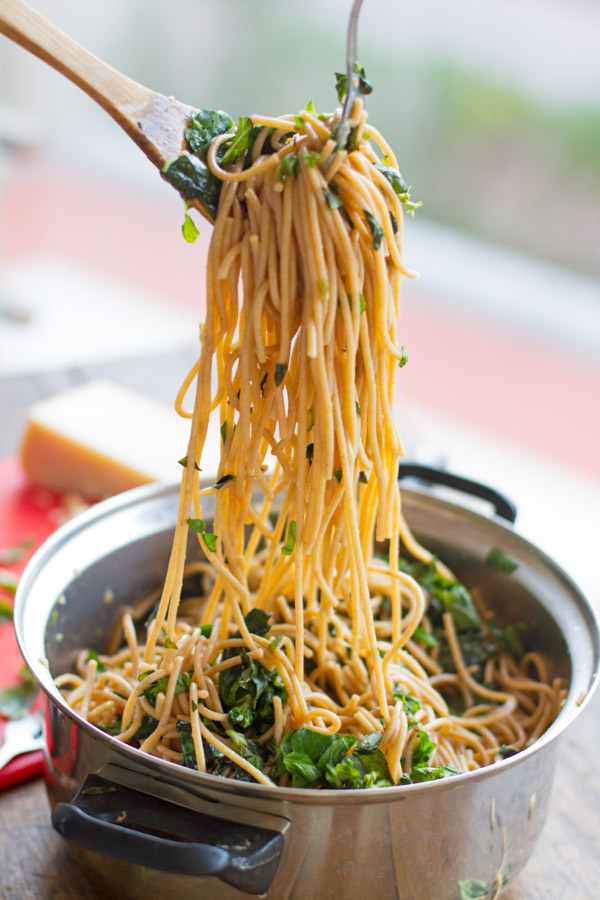plain spaghetti: (239, 149, 386, 695)
